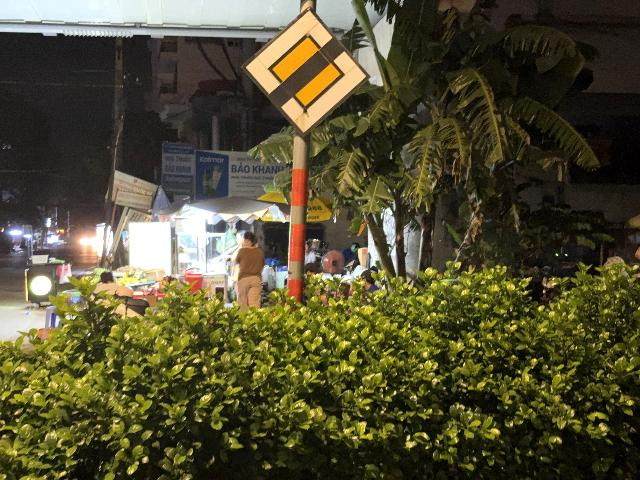het-duong-uu-tien: (241, 7, 372, 138)
